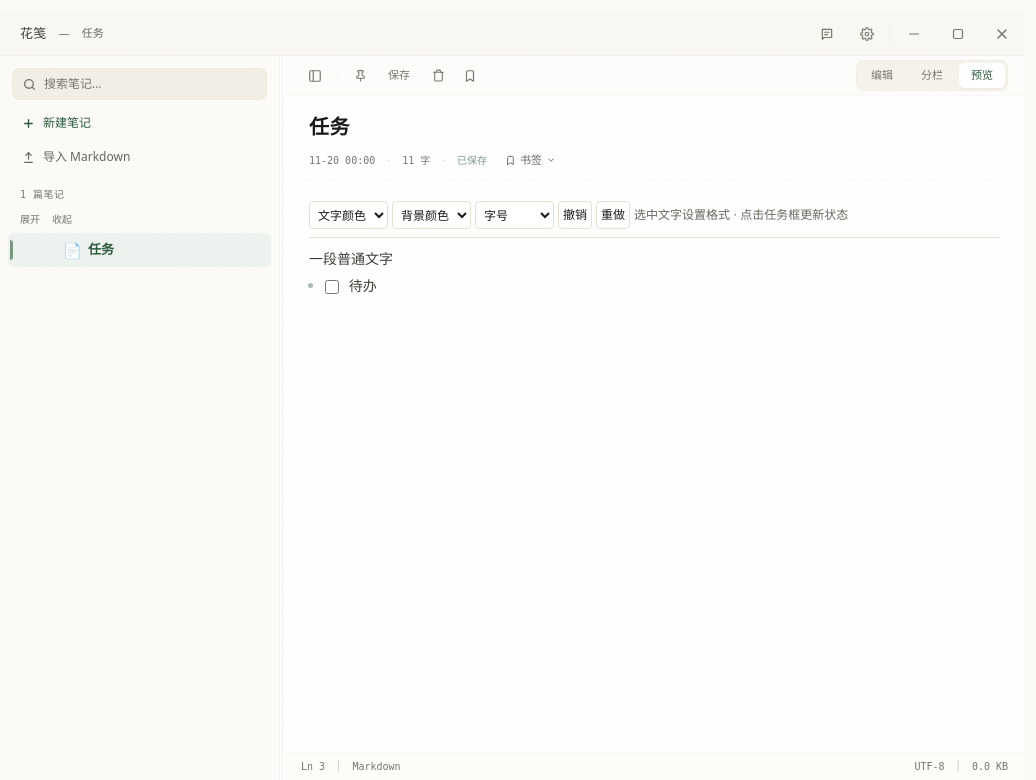
Test: main-window task editing from preview › lets preview mode change tasks, while plain text stays read-only
Later steps or results of the test are not shown.
Double-click the text "一段普通文字": (351, 258) [309,249,393,268]
Click the button named "标记书签": (470, 76) [456,62,484,90]
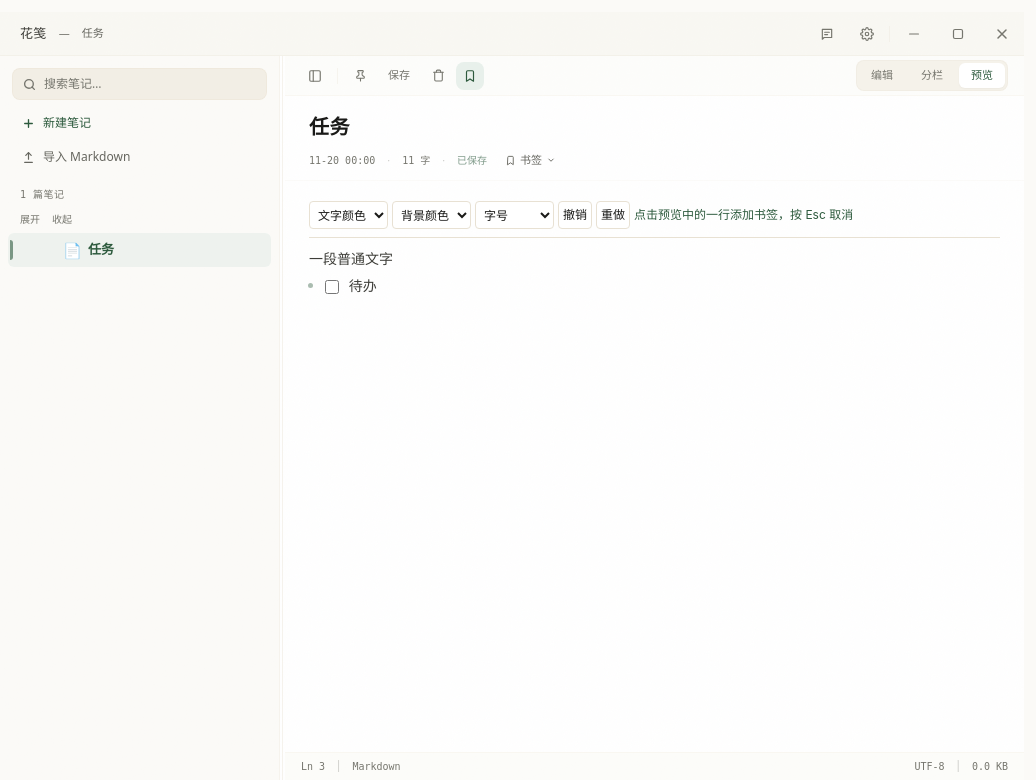
Click the checkbox named "任务完成状态": (332, 287) [325,280,339,294]
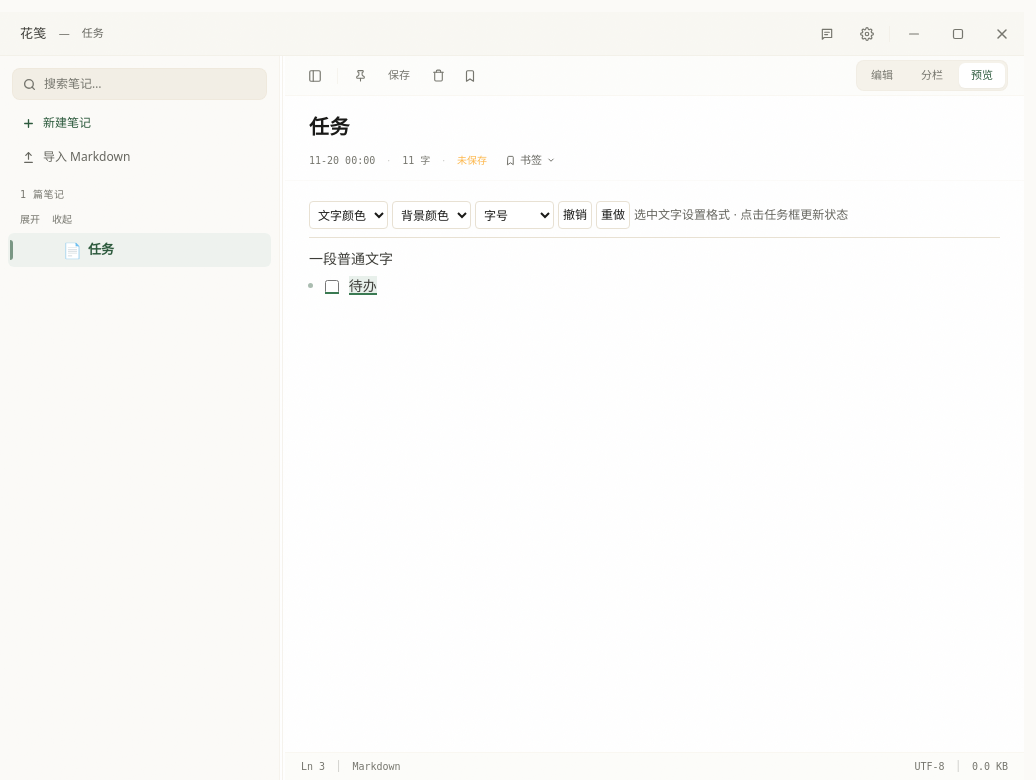
Now the checkbox named "任务完成状态" has attribute data-bookmarked
Click the checkbox named "任务完成状态": (332, 287) [325,280,339,294]
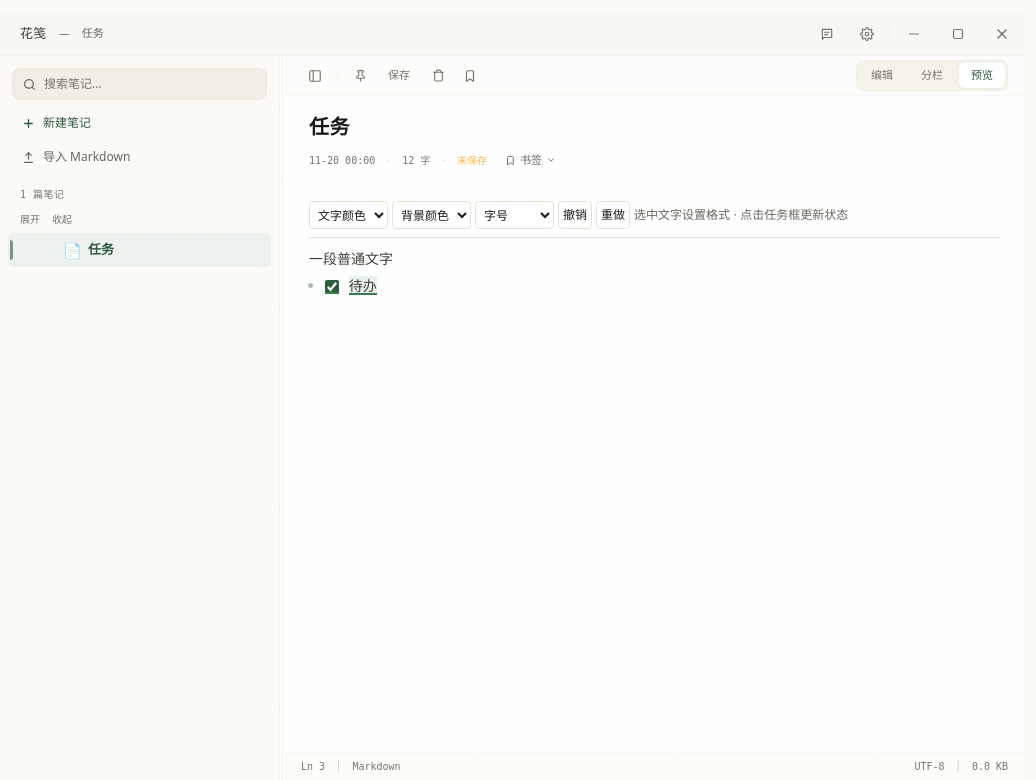
Expected: the button "保存" is shown, [378,62,420,90]
Now the checkbox named "任务完成状态" is checked, box [325,280,339,294]
